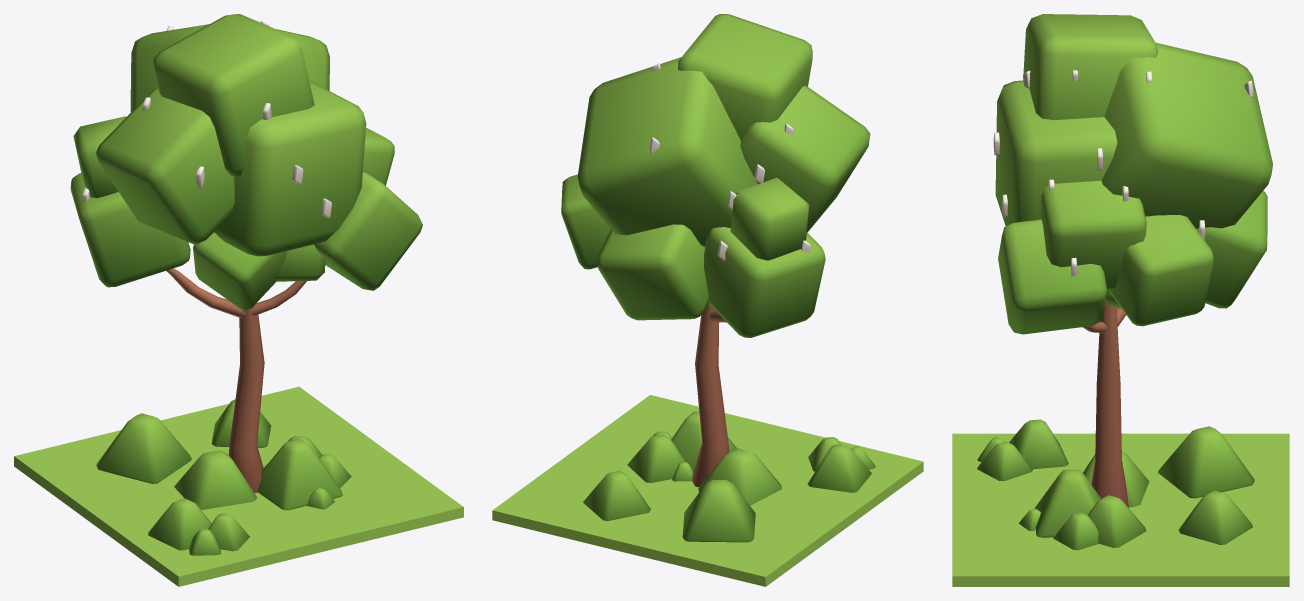
Rendered from chestnut.glb.
3 renders of one model, left to right at view 1: azimuth 30°, elevation 25°; view 2: azimuth 150°, elevation 25°; view 3: azimuth 270°, elevation 25°, orthographic. The views are drawn at different scales.
Parts seen in each view (by area): view 1: Chestnut; view 2: Chestnut; view 3: Chestnut.
Part boxes in pixels (<box>): Chestnut: <box>14,14,463,586</box>; Chestnut: <box>492,14,923,586</box>; Chestnut: <box>952,14,1289,586</box>.
Size of the model in its own units: 0.29 by 0.4779 by 0.29.
Materials: 1 (1 with a texture image).
